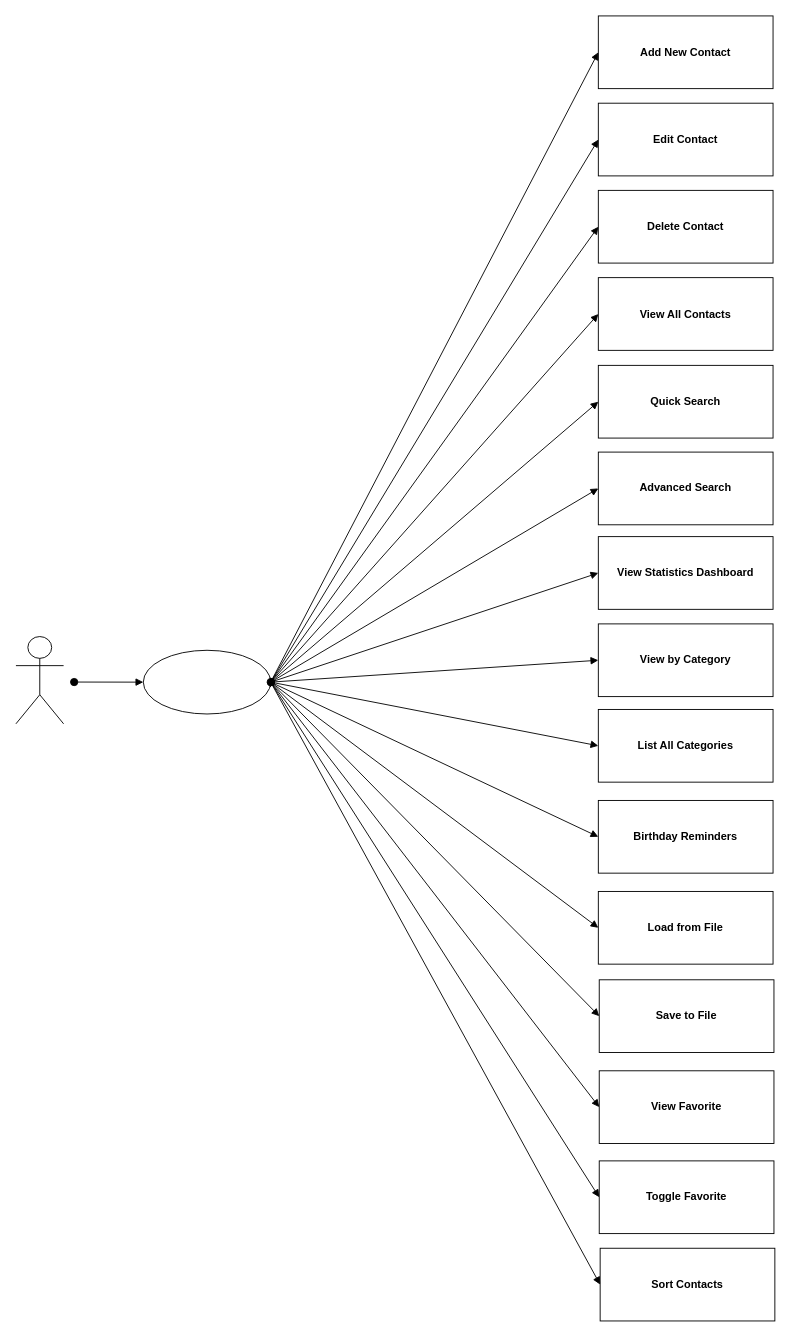
The diagram is 791 pixels wide and 1338 high, and some of its shapes have lost their labels. The shapes that lost their labels are listed below. From the top down, each one's centre as x and y in pixels, then its label:
At [39,680]: "User".
At [206,681]: "Use the Application".
